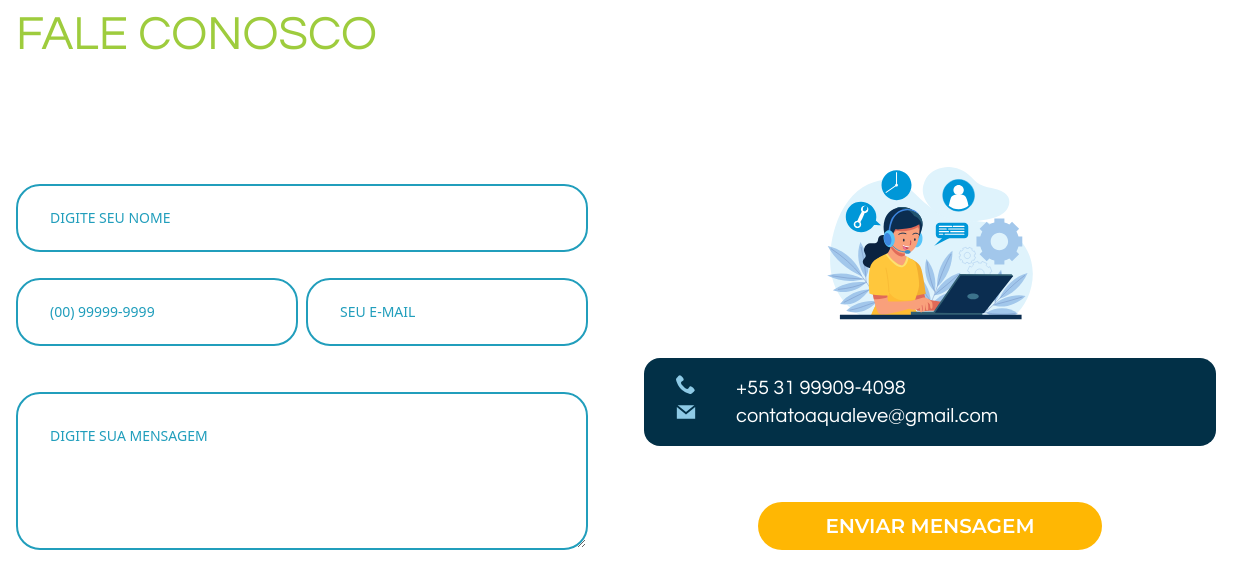
FaleConosco › masks the phone field to the Brazilian mobile pattern
In the field with placeholder "(00) 99999-9999": coordinates (157, 312) [16,278,298,346], type "319999988889999"
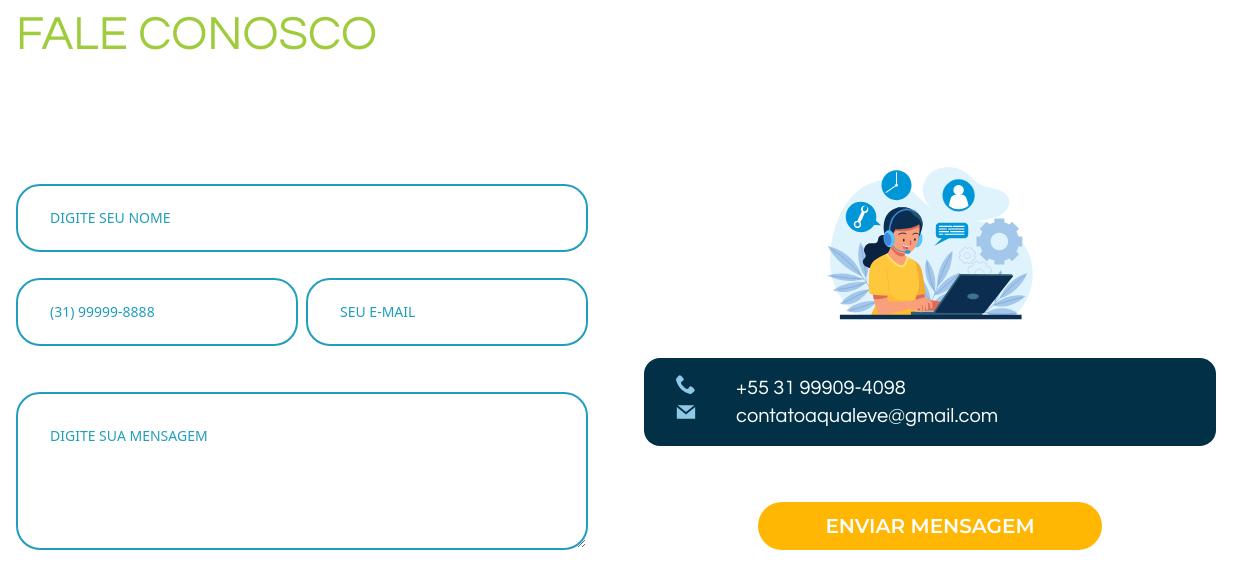
Now the field with placeholder "(00) 99999-9999" holds "(31) 99999-8888", box [16,278,298,346]
